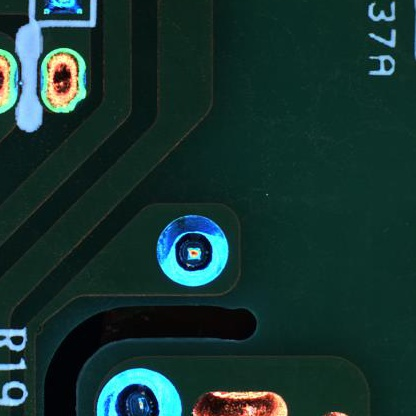spot: (151, 211, 234, 291), (30, 42, 91, 117)
